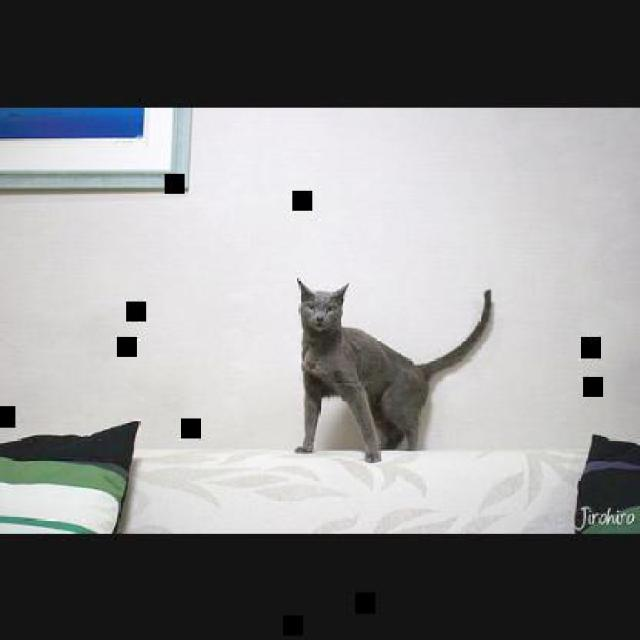unauthorized: (294, 276, 494, 462)
